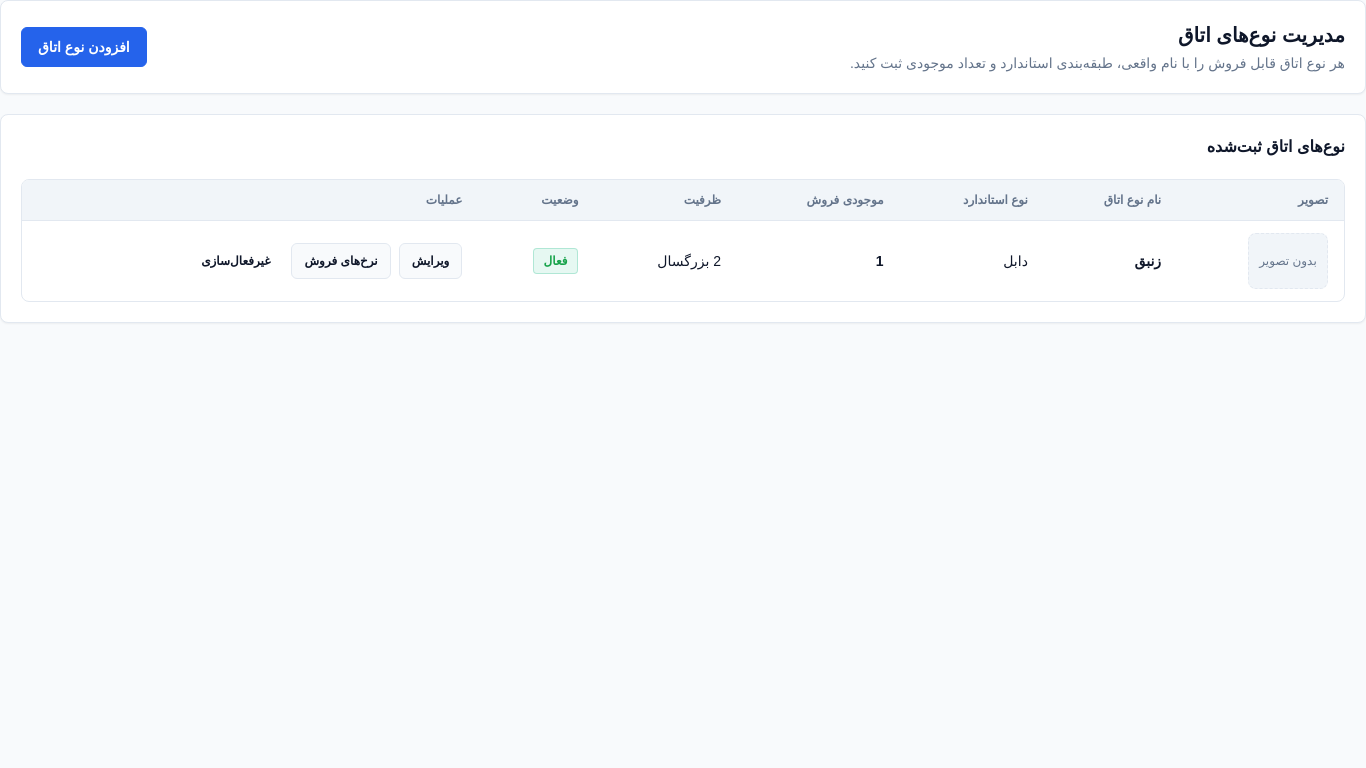
Test: RoomType RatePlan management › rejects invalid minimum nights without sending a request
Click the button "نرخ‌های فروش". click: (341, 261)
box: left=292, top=243, right=391, bottom=279
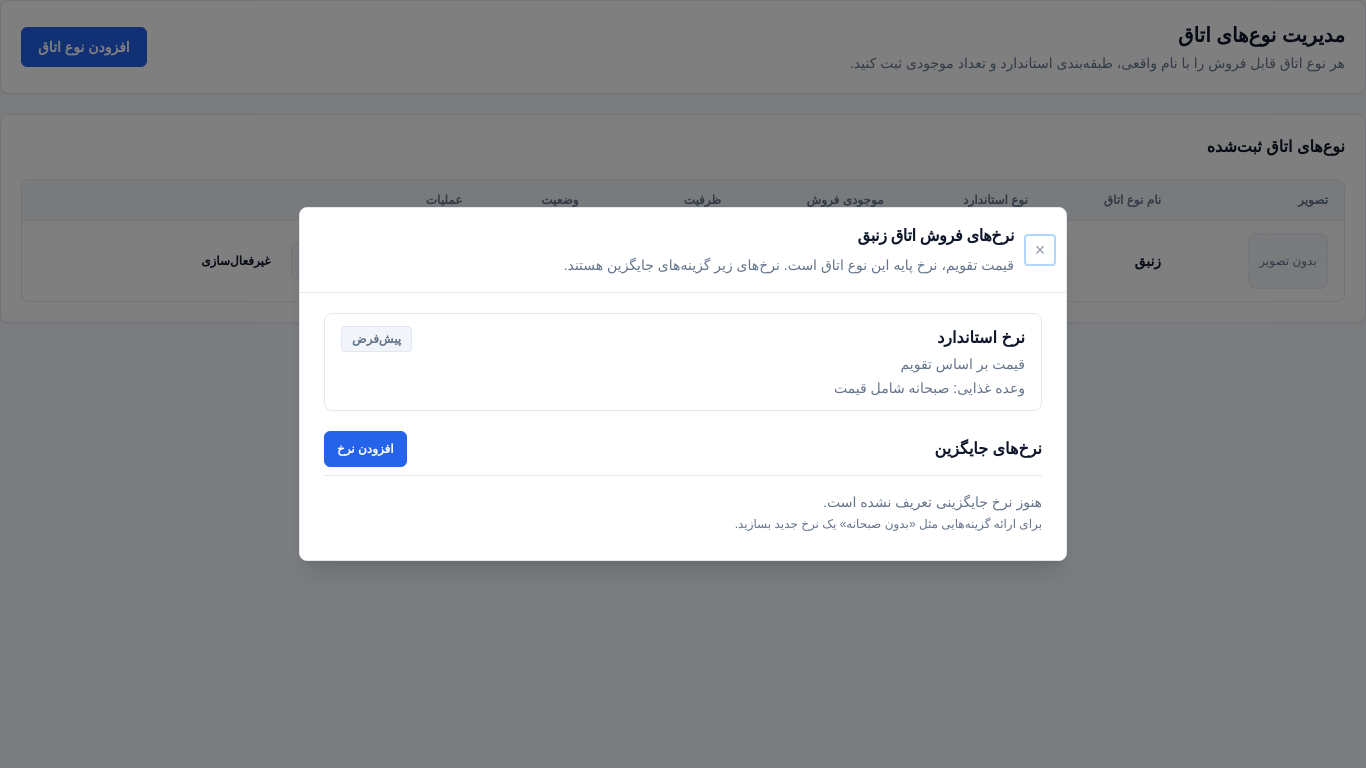
Click the button "افزودن نرخ". click: (365, 449)
box: left=324, top=431, right=407, bottom=467
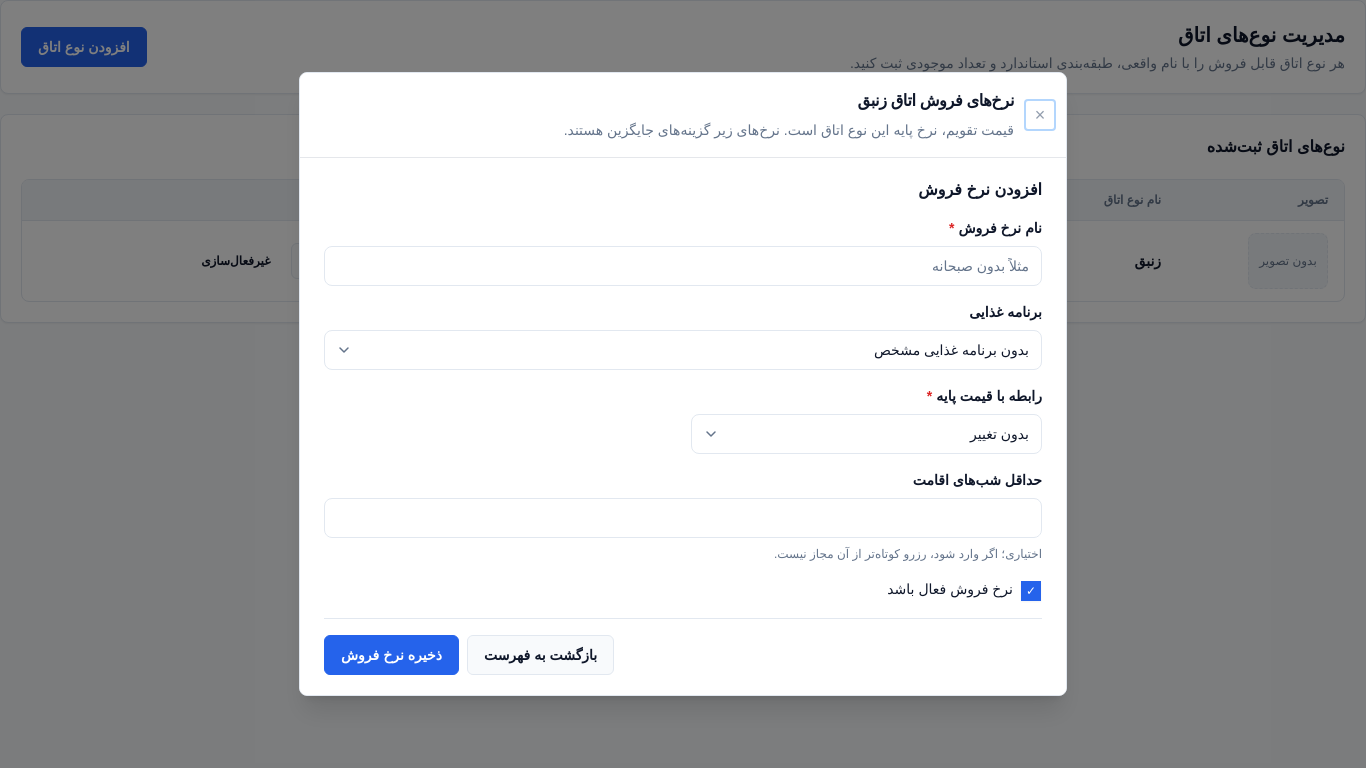
Type "بدون صبحانه" into the field labelled "نام نرخ فروش*". click: (683, 266)
box: left=324, top=246, right=1042, bottom=286
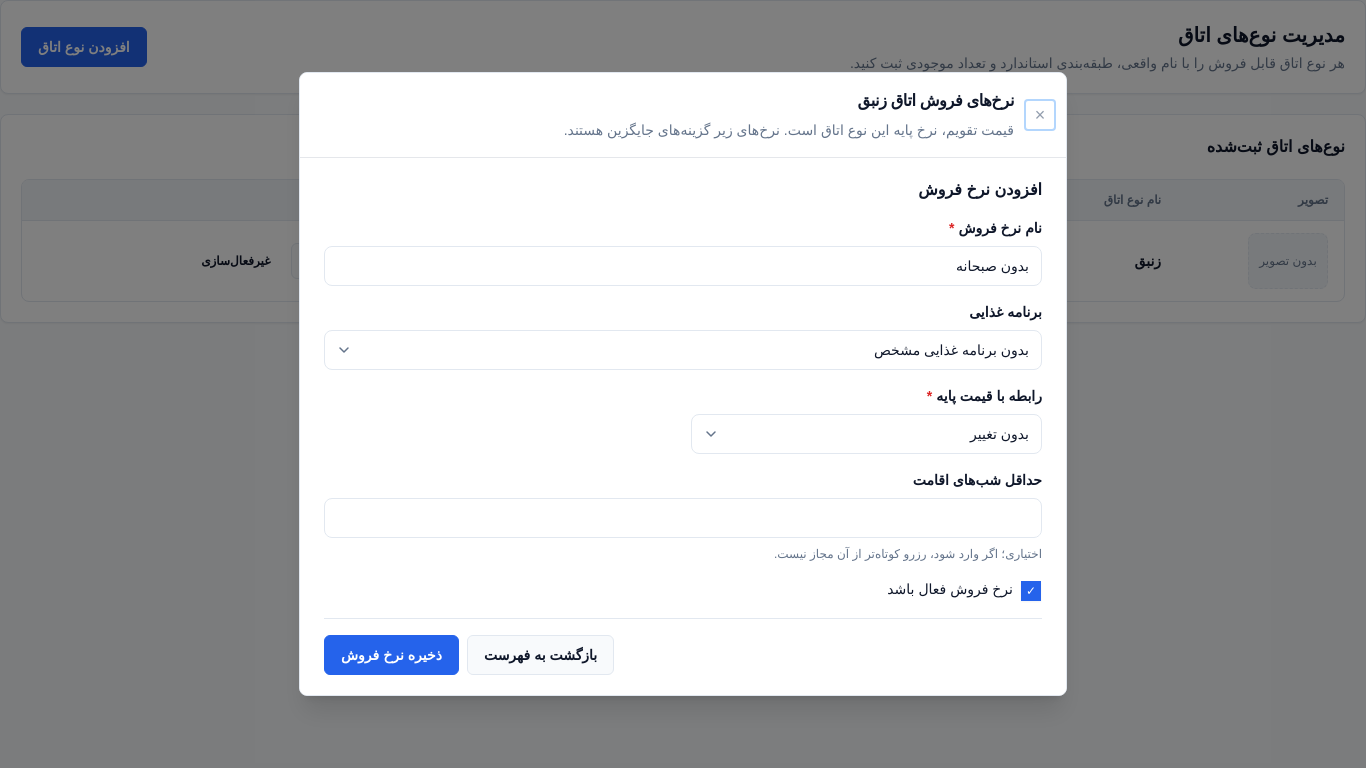
Type "0" into the number field labelled "حداقل شب‌های اقامت". click: (683, 518)
box: left=324, top=498, right=1042, bottom=538
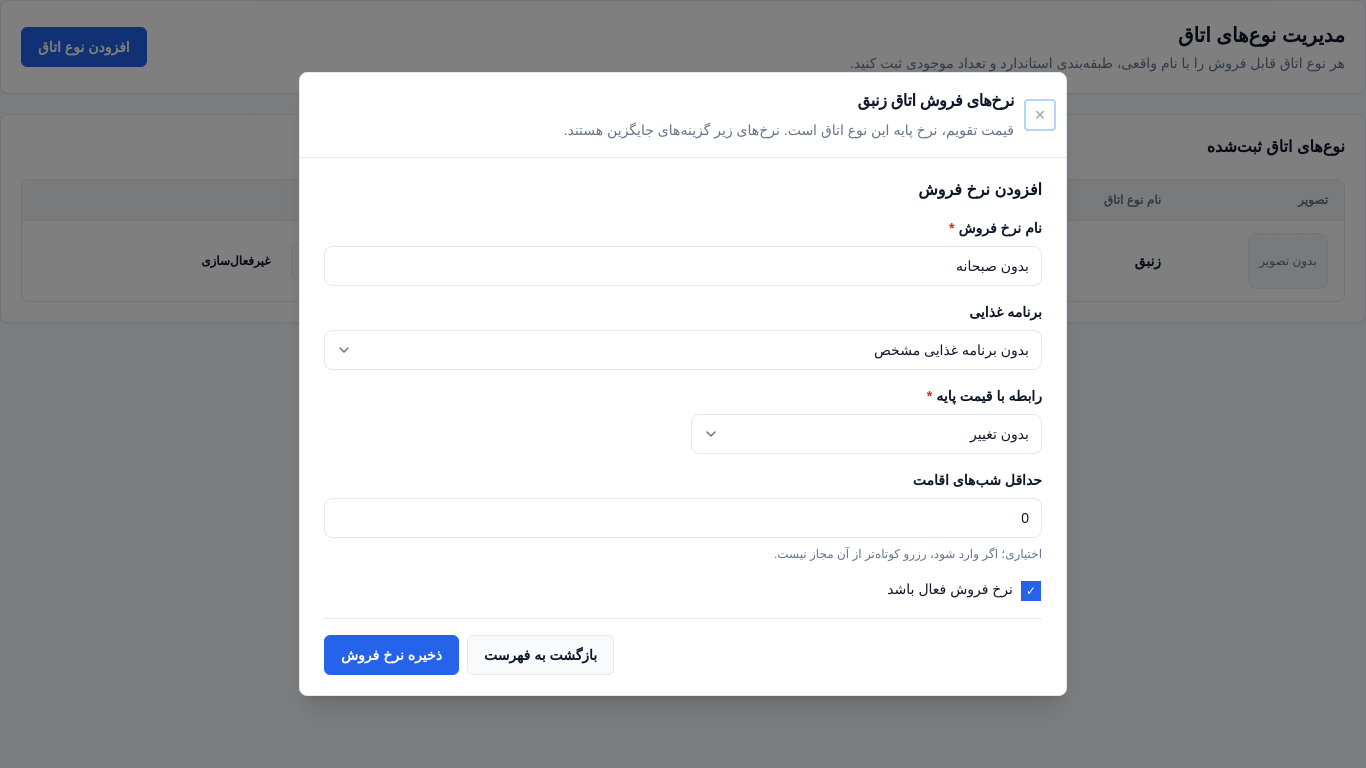
Click the button "ذخیره نرخ فروش". click: (391, 655)
box: left=324, top=635, right=459, bottom=675
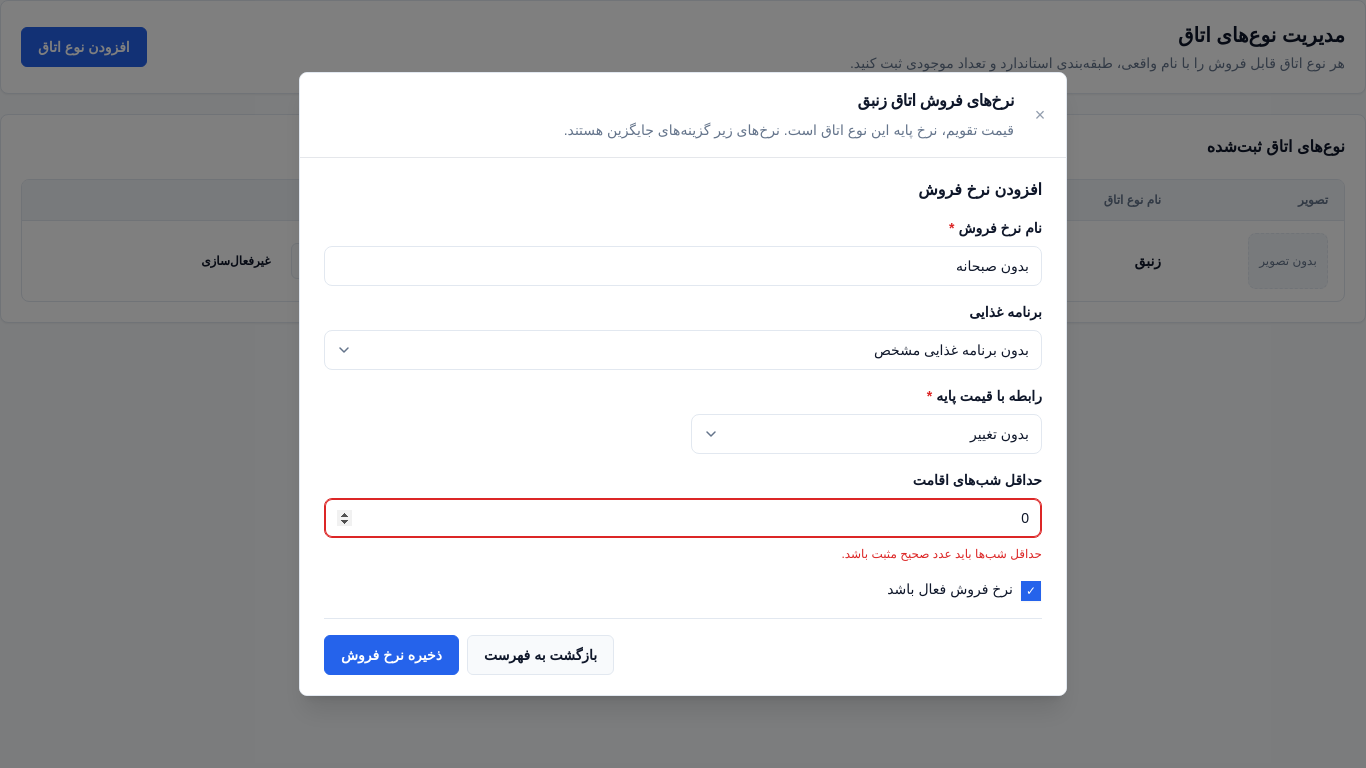
Expected: the text "حداقل شب‌ها باید عدد صحیح مثبت باشد." is shown, left=841, top=547, right=1042, bottom=561
